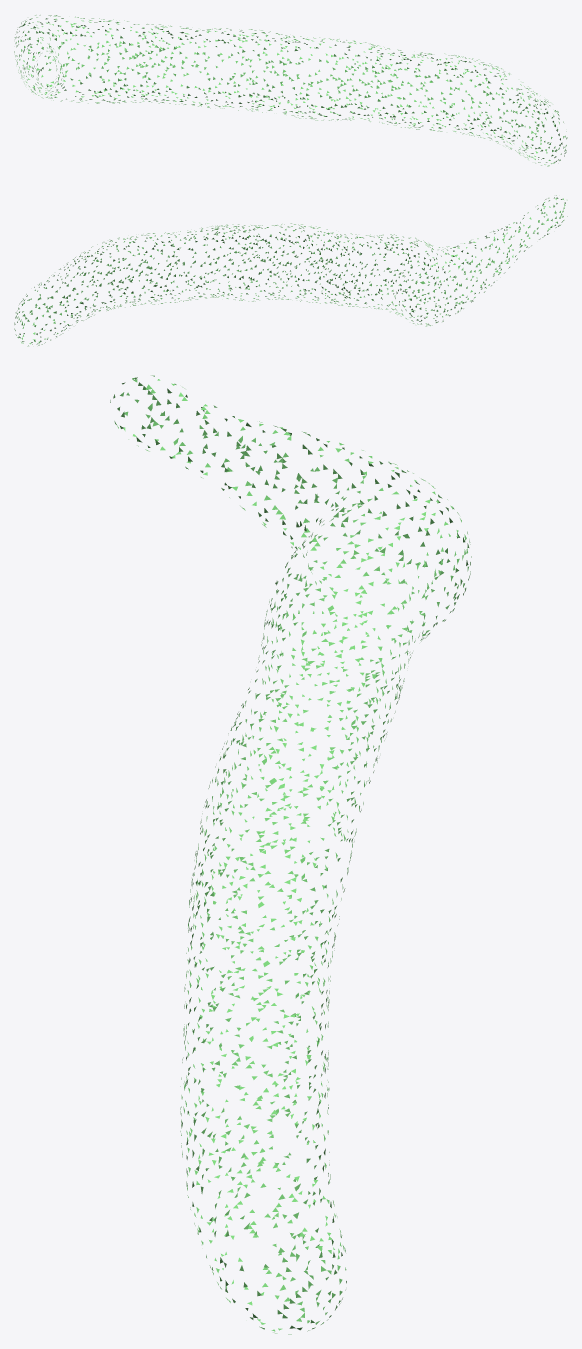
File: morph_017.glb
3 views of the same model, one above another, from view 1: azimuth 30°, elevation 25°; view 2: azimuth 150°, elevation 25°; view 3: azimuth 270°, elevation 25° (orthographic). The views are drawn at different scales.
Bounding box in the file's own units: 136 × 61.88 × 42.02.
